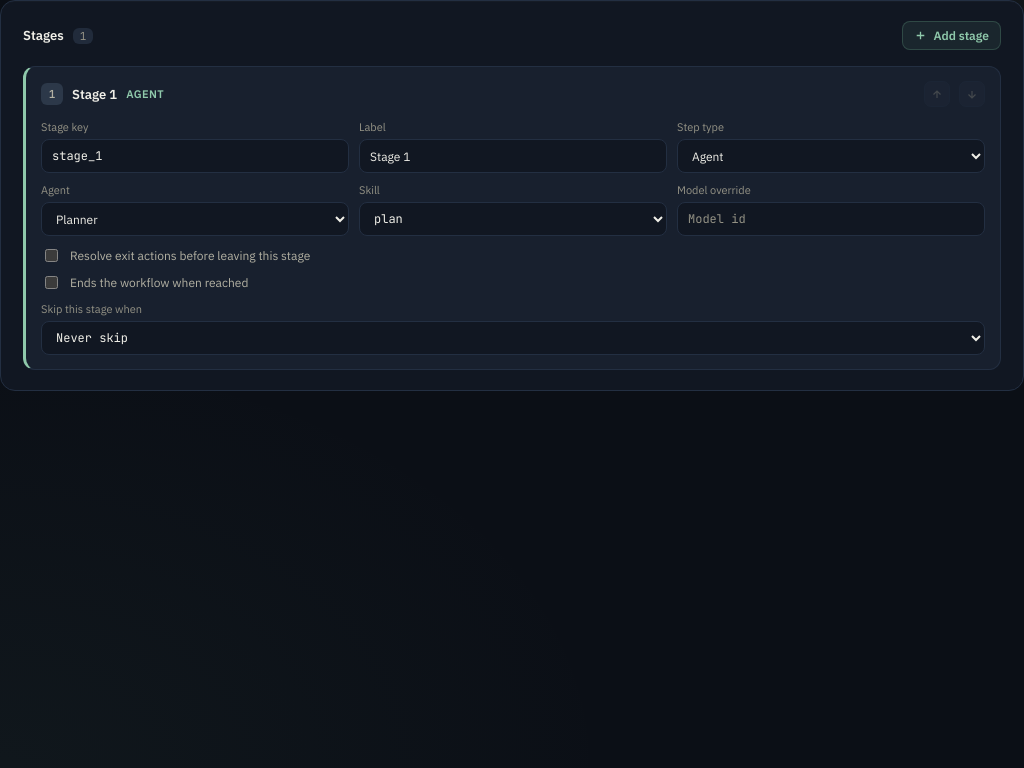
it: Studio exit-action authoring (AC-1/AC-2 UI) › clears authored actions when exit actions are disabled again (AC-2 UI)
Click the checkbox labelled "Resolve exit actions before leaving this stage" at coordinates (52, 256), box [45,249,58,262]
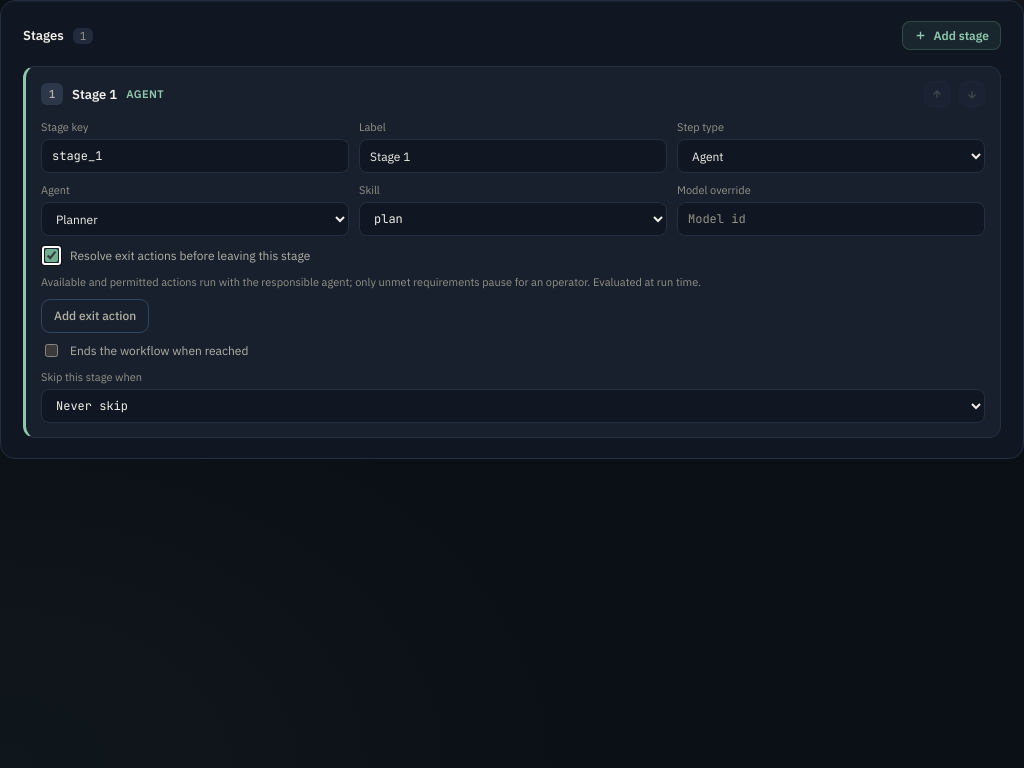
Click the button "Add exit action" at coordinates (95, 316), box [41,299,149,333]
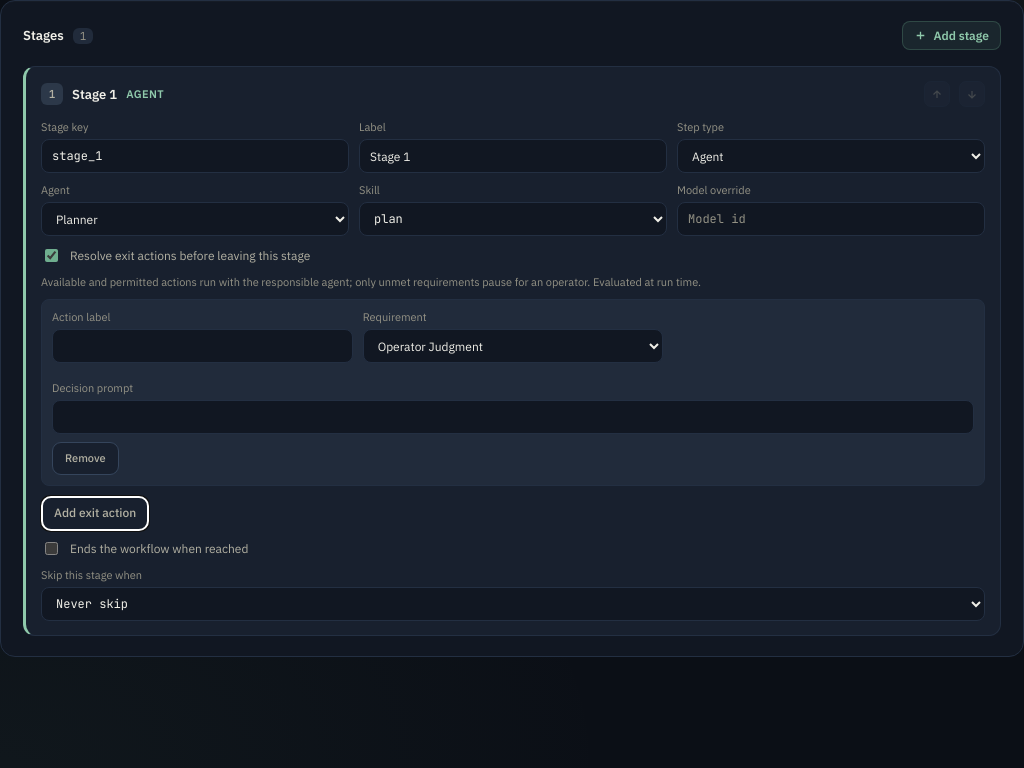
Click the checkbox labelled "Resolve exit actions before leaving this stage" at coordinates (52, 256), box [45,249,58,262]
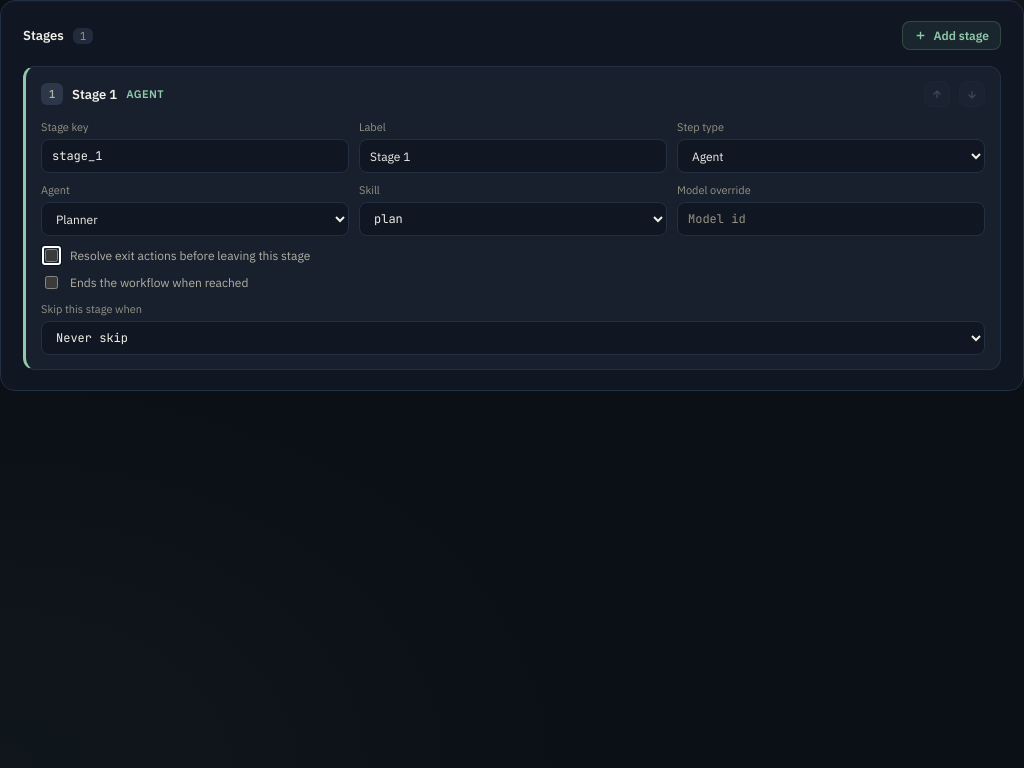
Result: the button "Add exit action" is gone
